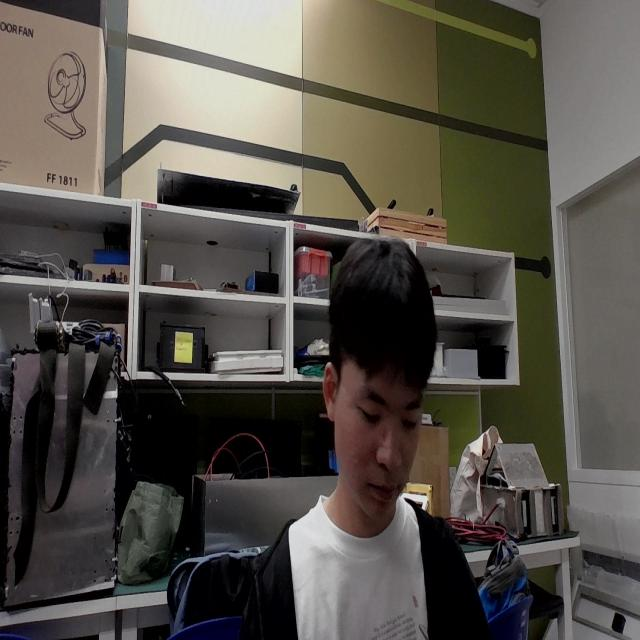Without Helmet: (304, 207, 451, 555)
